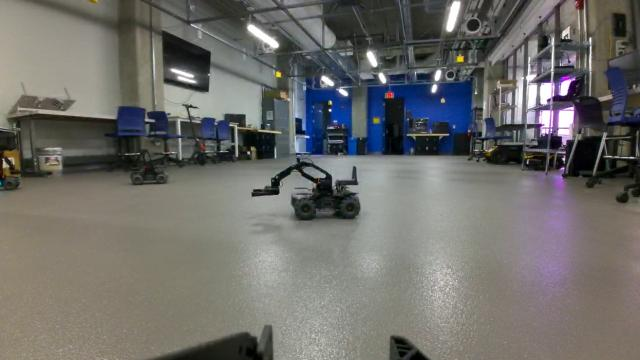robot: (248, 155, 362, 224)
